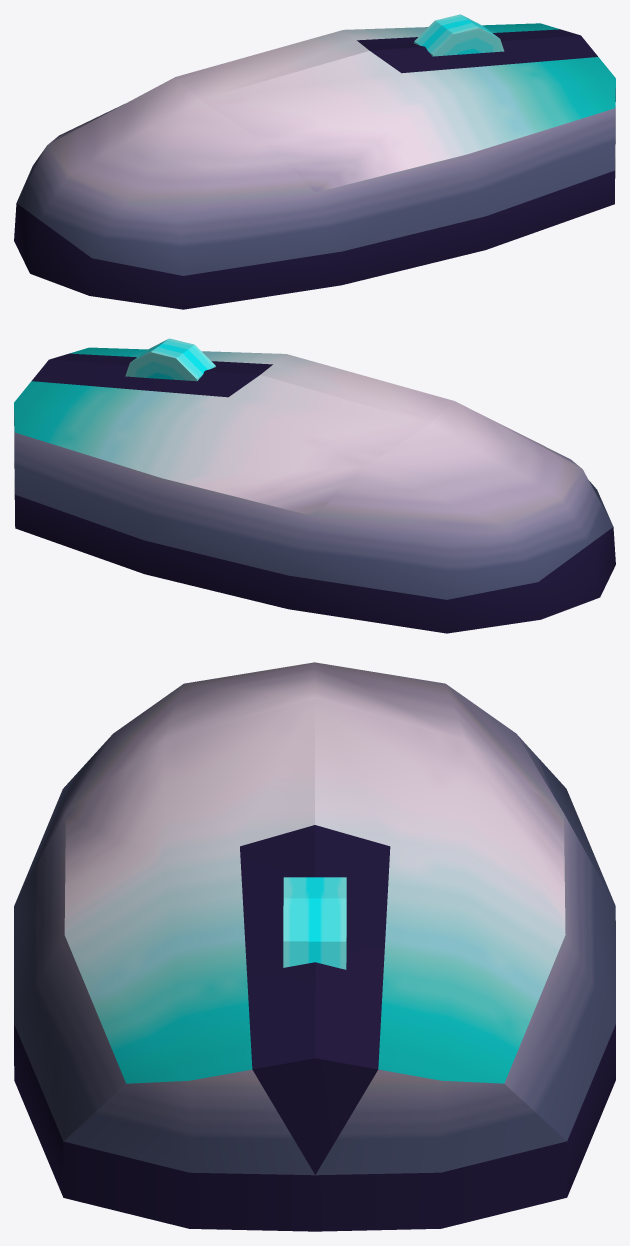
The model's file is Structure_Retro_Mouse_Art.fbx.
The picture shows the model from 3 angles, top to bottom: view 1: azimuth 30°, elevation 25°; view 2: azimuth 150°, elevation 25°; view 3: azimuth 270°, elevation 25°; orthographic projection. The views are drawn at different scales.
Visible parts, largest first — view 1: Structure_Retro_Mouse_Art; view 2: Structure_Retro_Mouse_Art; view 3: Structure_Retro_Mouse_Art.
Boxes of the visible parts, <box> form: Structure_Retro_Mouse_Art: <box>14,14,615,309</box>; Structure_Retro_Mouse_Art: <box>14,338,615,633</box>; Structure_Retro_Mouse_Art: <box>14,662,615,1231</box>.
Bounding box in the file's own units: 1.21 × 0.3043 × 0.6841.
